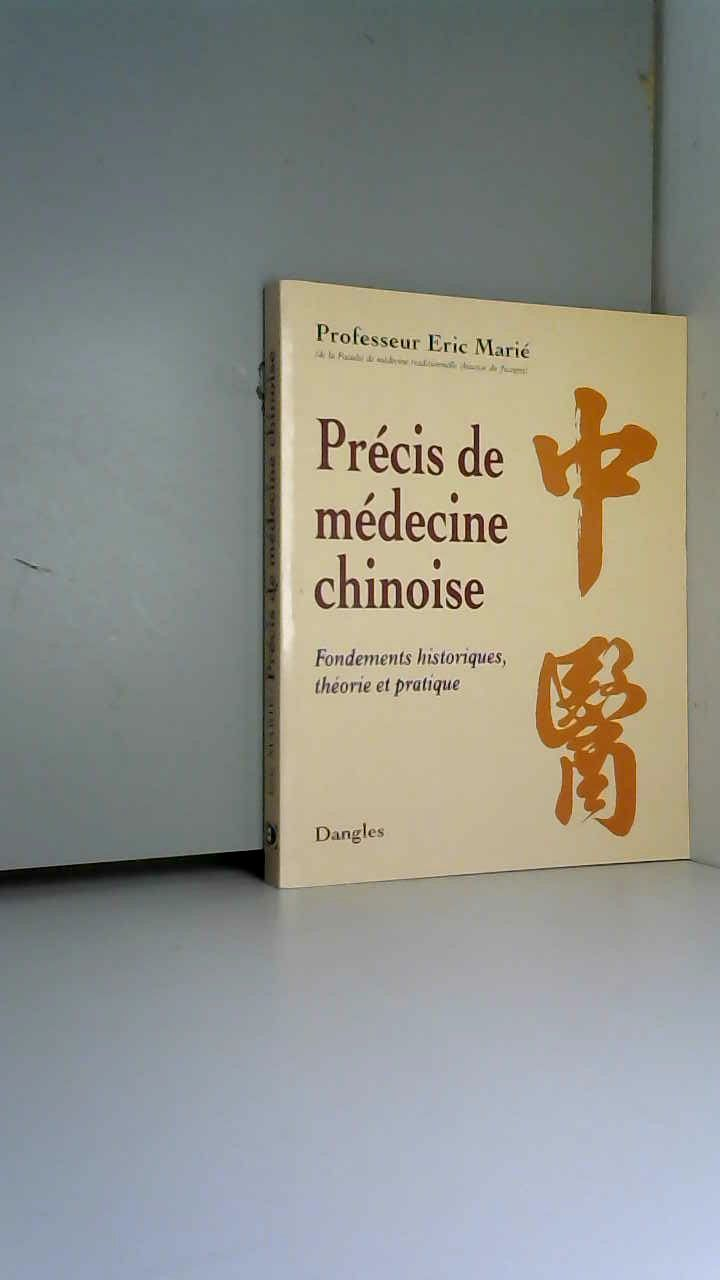book: (230, 250, 718, 935)
